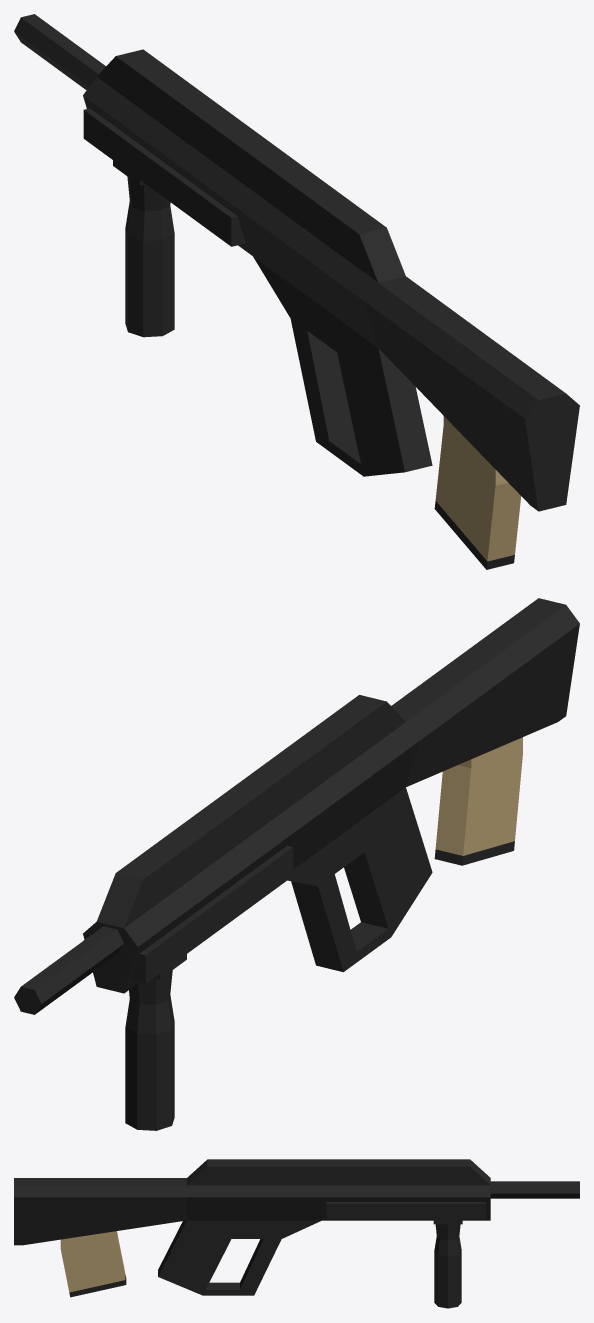
The model's file is Rifle_3.fbx.
3 views of the same model, one above another, from view 1: azimuth 30°, elevation 25°; view 2: azimuth 150°, elevation 25°; view 3: azimuth 270°, elevation 25° (orthographic). The views are drawn at different scales.
Visible parts, largest first — view 1: AUG A3, AUG A3(magazine), Fore grip; view 2: AUG A3, AUG A3(magazine), Fore grip; view 3: AUG A3, AUG A3(magazine), Fore grip.
Boxes of the visible parts, bbox=[...] form: AUG A3: bbox=[14, 14, 579, 511]; AUG A3(magazine): bbox=[434, 416, 521, 569]; Fore grip: bbox=[113, 160, 174, 337]; AUG A3: bbox=[14, 598, 579, 1014]; AUG A3(magazine): bbox=[434, 737, 522, 865]; Fore grip: bbox=[125, 954, 186, 1130]; AUG A3: bbox=[14, 1159, 579, 1295]; AUG A3(magazine): bbox=[60, 1231, 126, 1297]; Fore grip: bbox=[433, 1219, 462, 1308].
Bounding box in the file's own units: 56.25 × 225 × 825.
